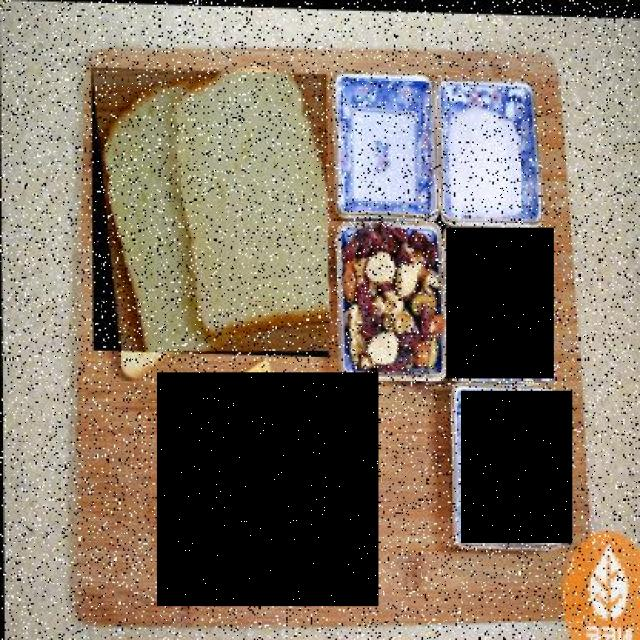Bread: (92, 66, 330, 357)
Butter: (460, 391, 572, 543)
Cheese: (158, 372, 379, 606), (446, 227, 554, 379)
